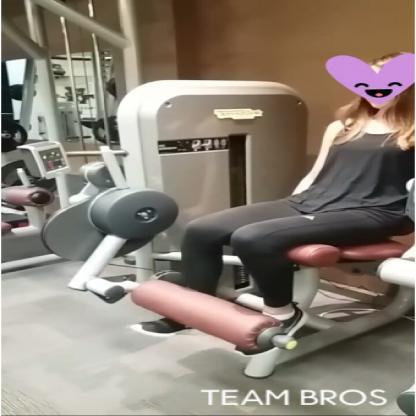leg extension: (44, 52, 416, 386)
